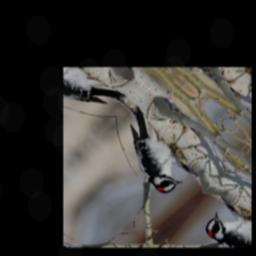Woodpecker: (101, 103, 203, 199)
